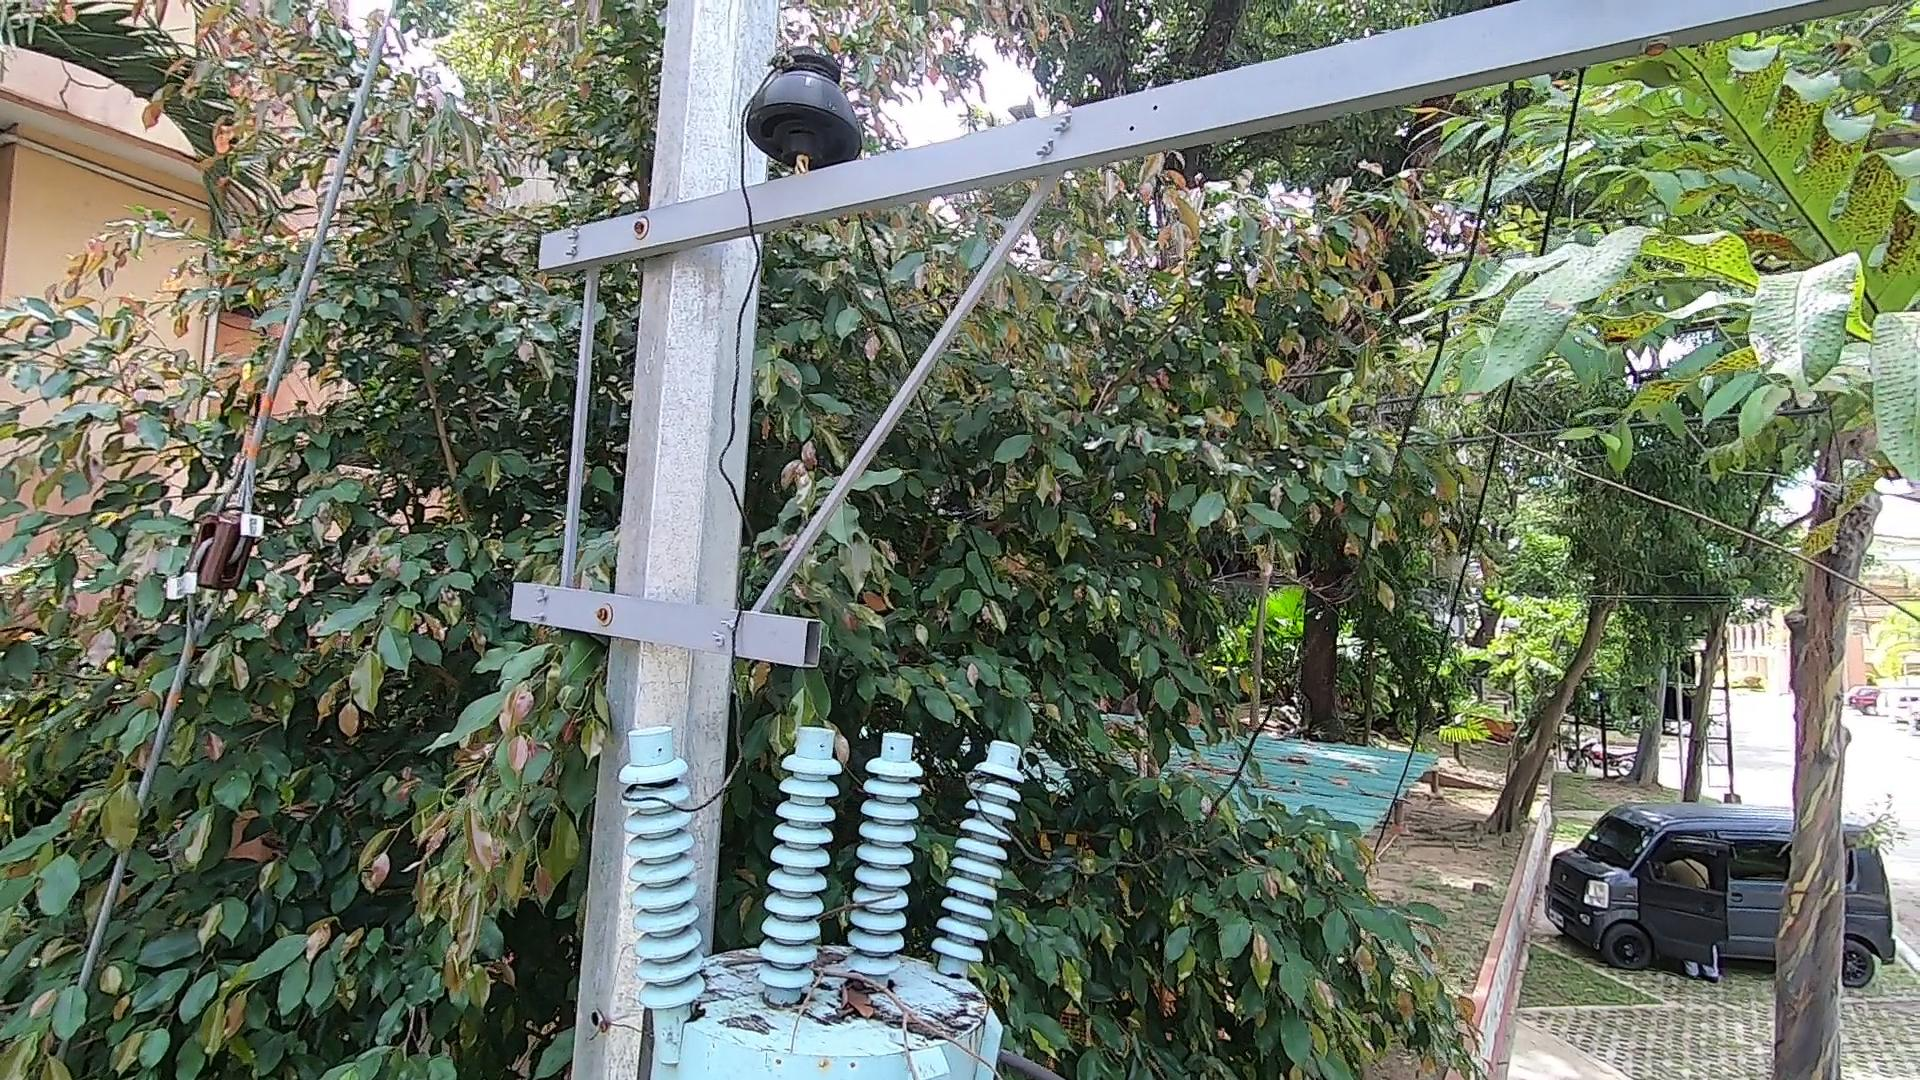leaf: (818, 964, 880, 1027), (814, 942, 855, 971)
tree branch: (756, 924, 1029, 1077)
